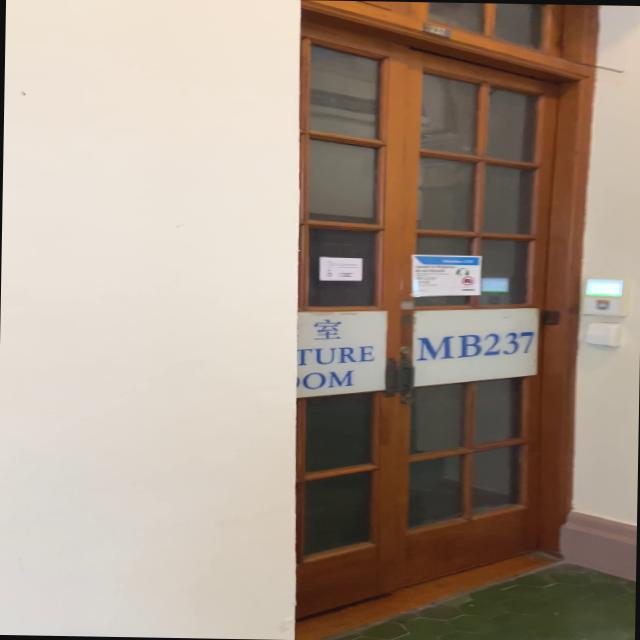room237Window: (417, 310, 536, 376)
